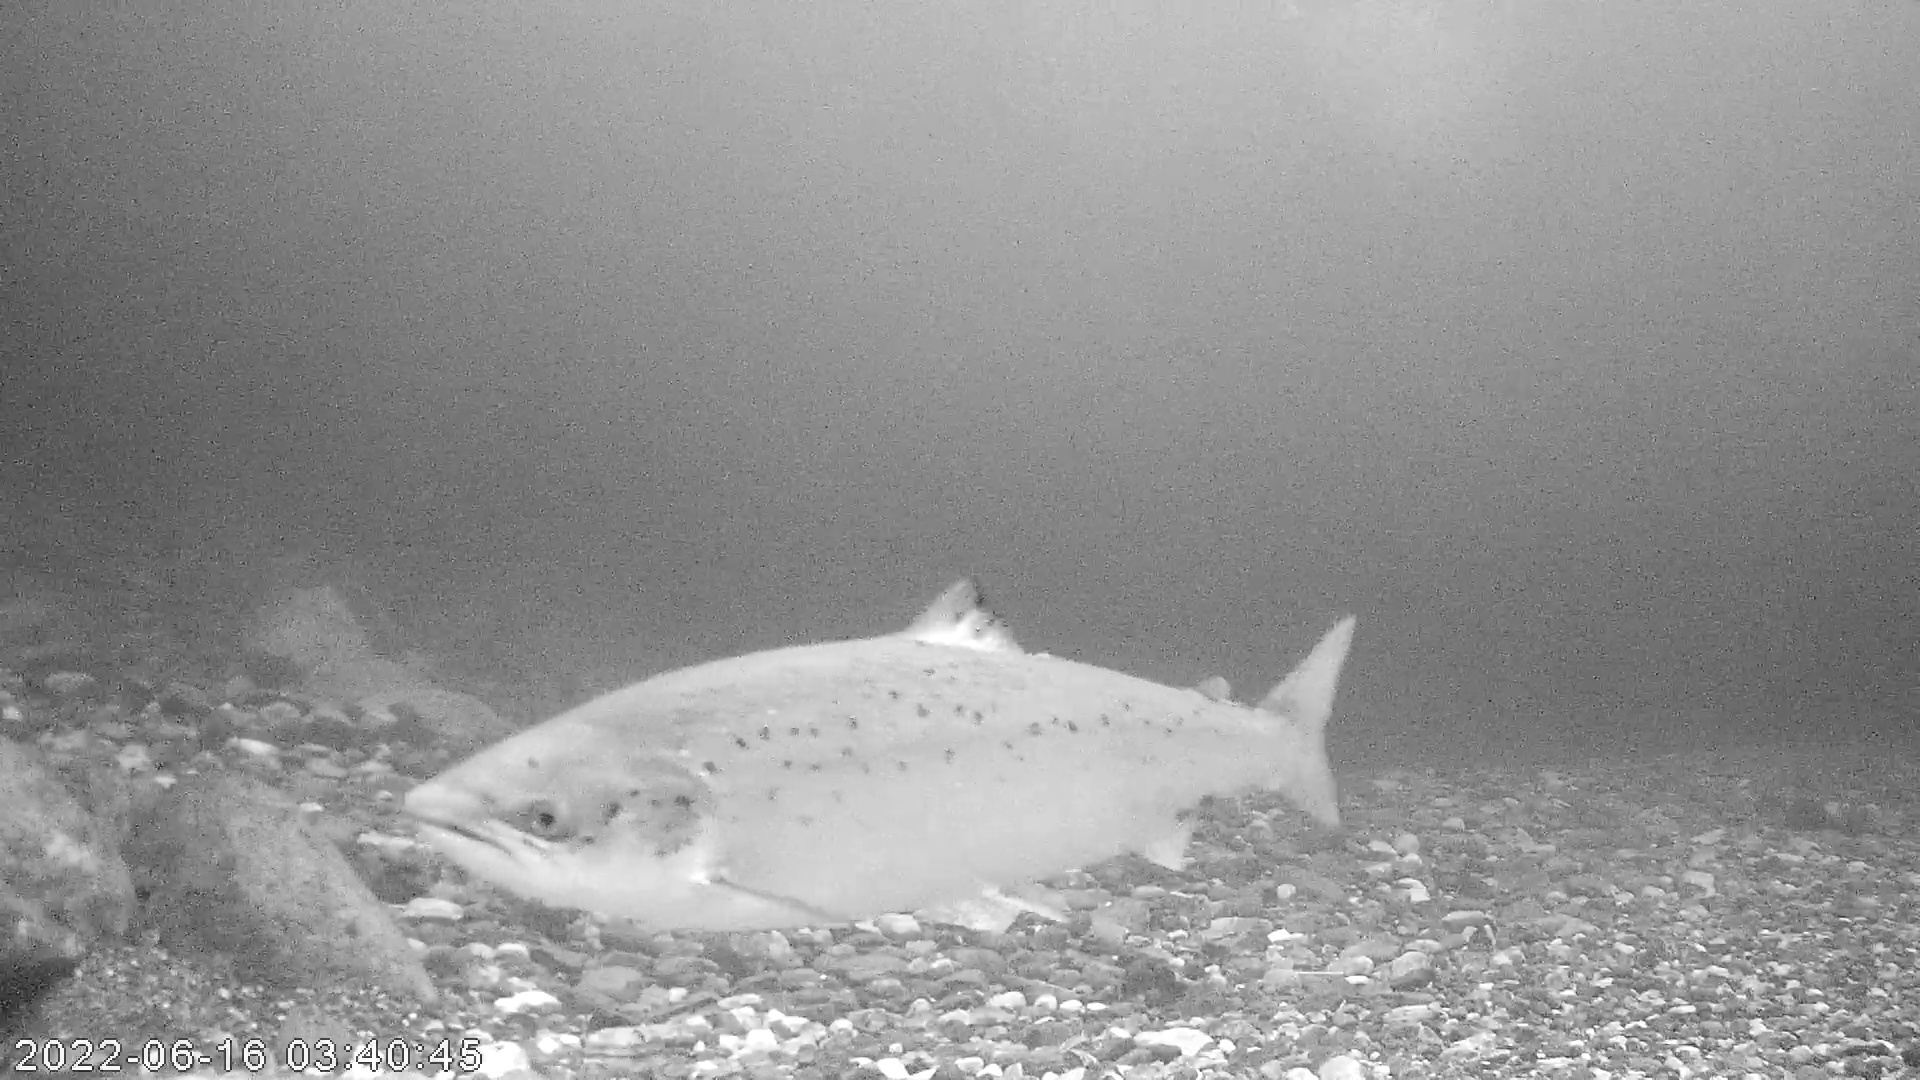salmon: (401, 571, 1361, 938)
